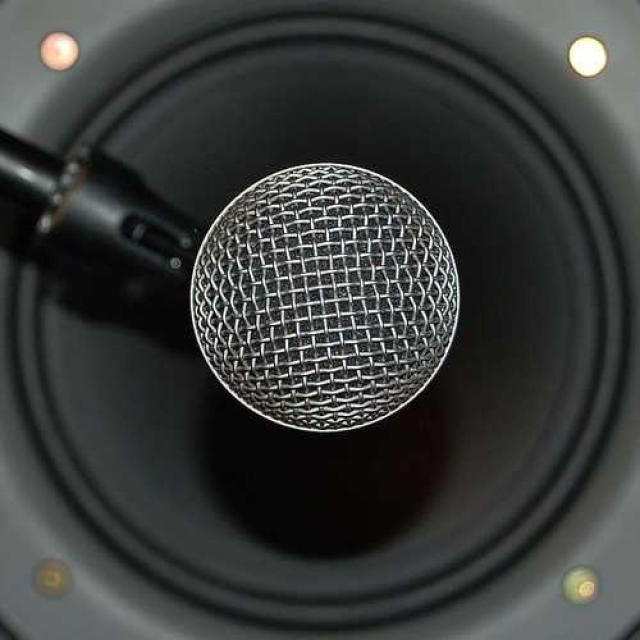microphone: (0, 91, 450, 437)
